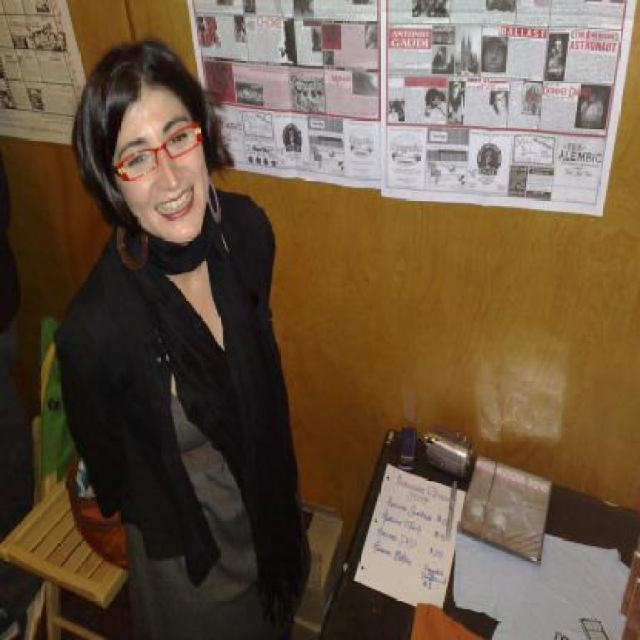Person: (43, 44, 314, 638)
